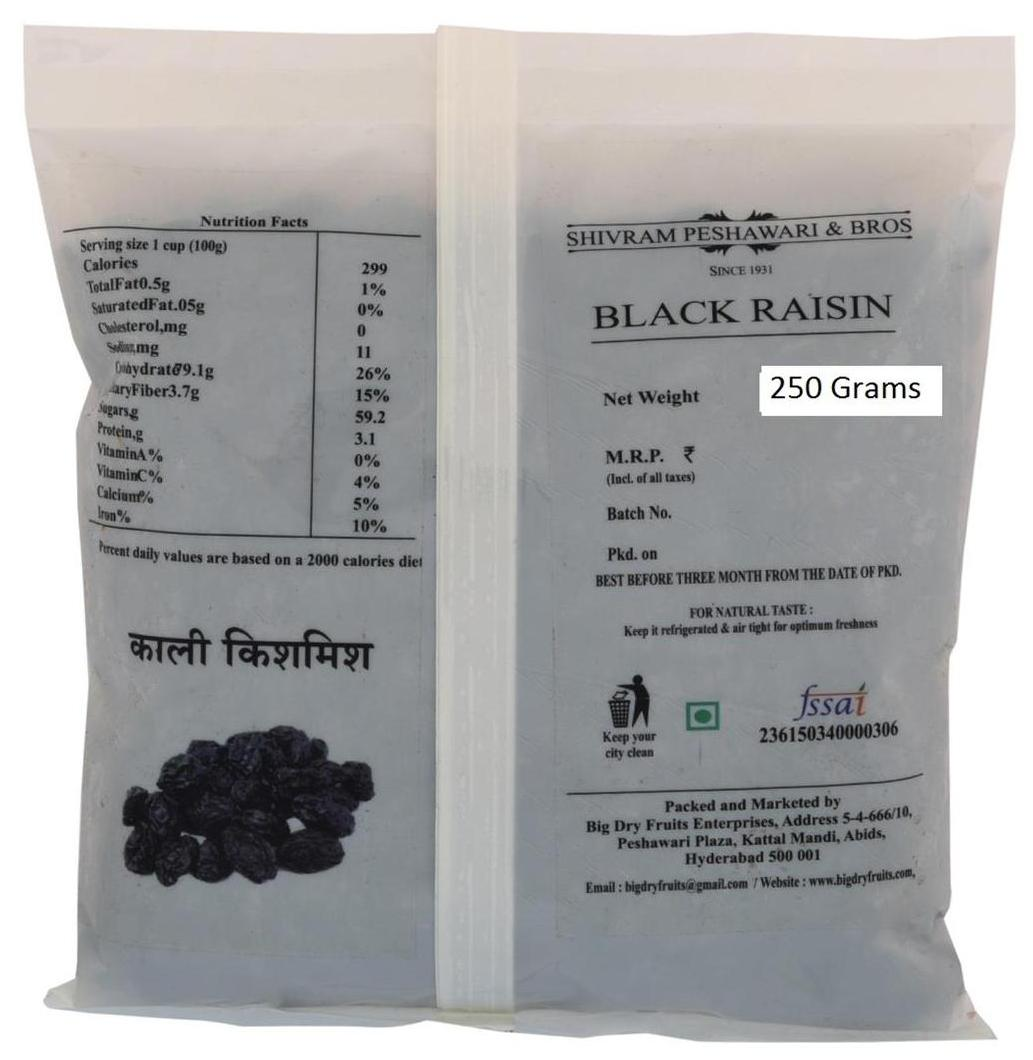fssai: (792, 681, 870, 719)
